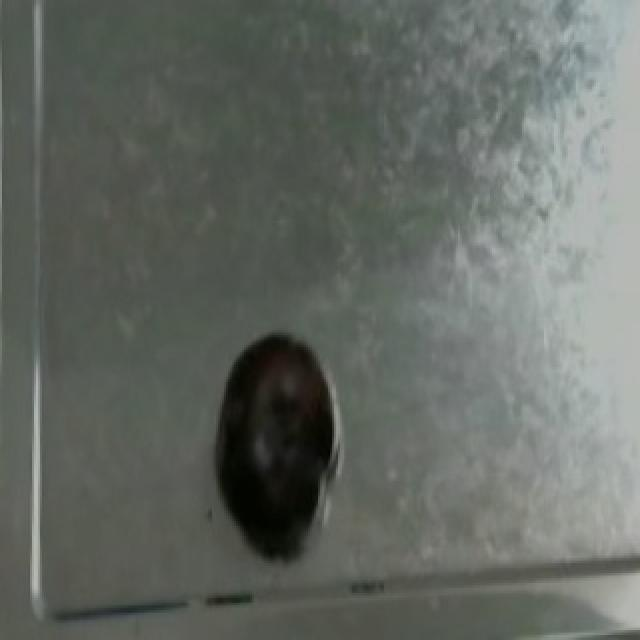Fruit: (212, 325, 340, 531)
